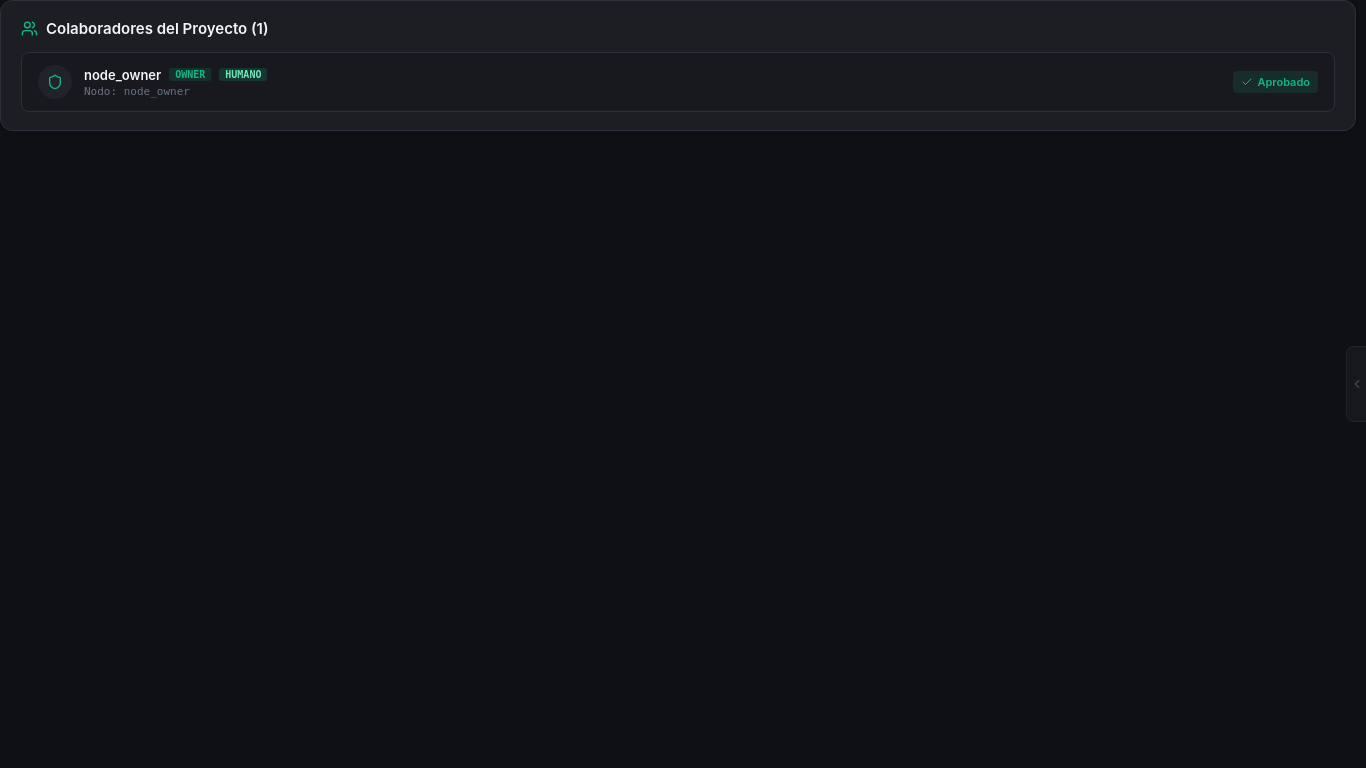
Test: CollaboratorsView - pegar código de solicitud (ingesta manual, nivel 2) › muestra el estado de bloqueo cuando el backend responde locked
The width and height of the screenshot is (1366, 768).
Click the button with test id "view-slider-tab": (1356, 384) [1346,346,1365,422]
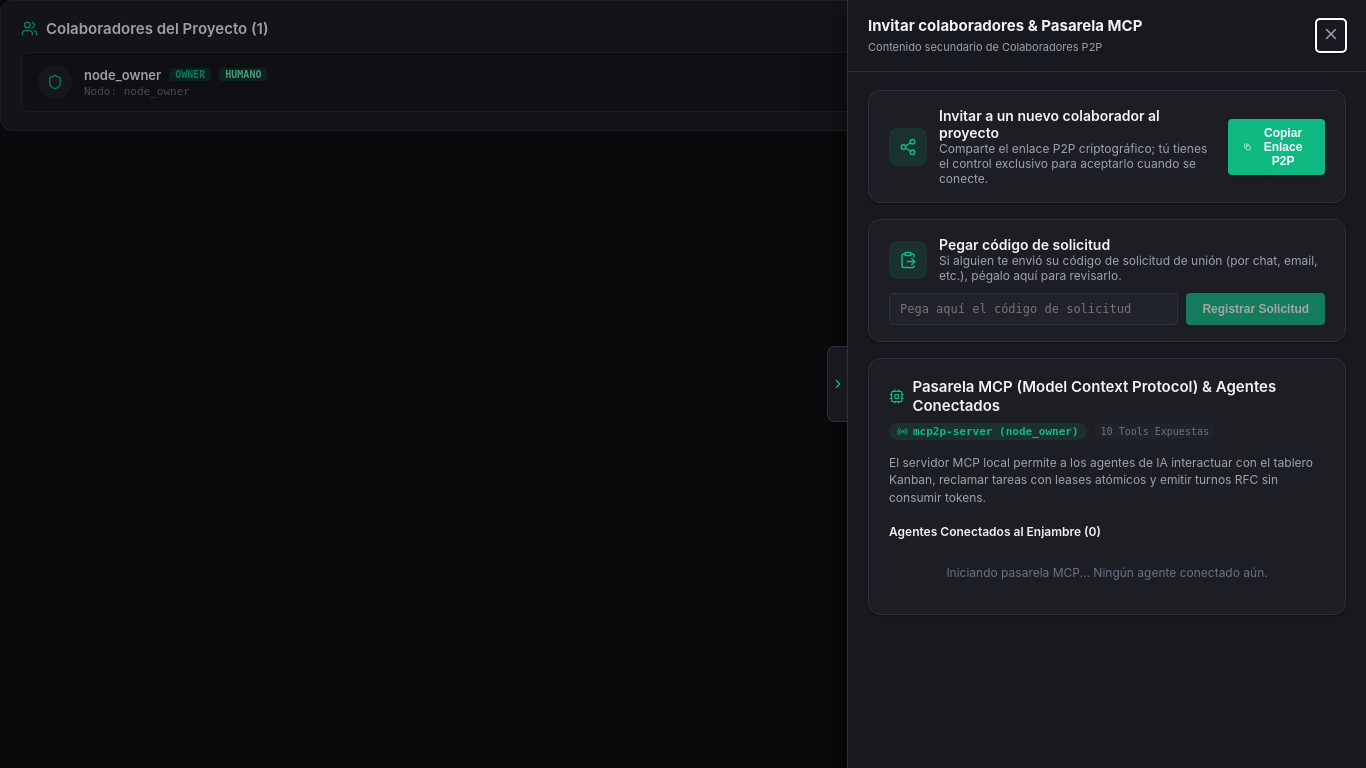
In the field named "Código de solicitud de unión": (1034, 309) [889,293,1178,325], type "req_code_locked"
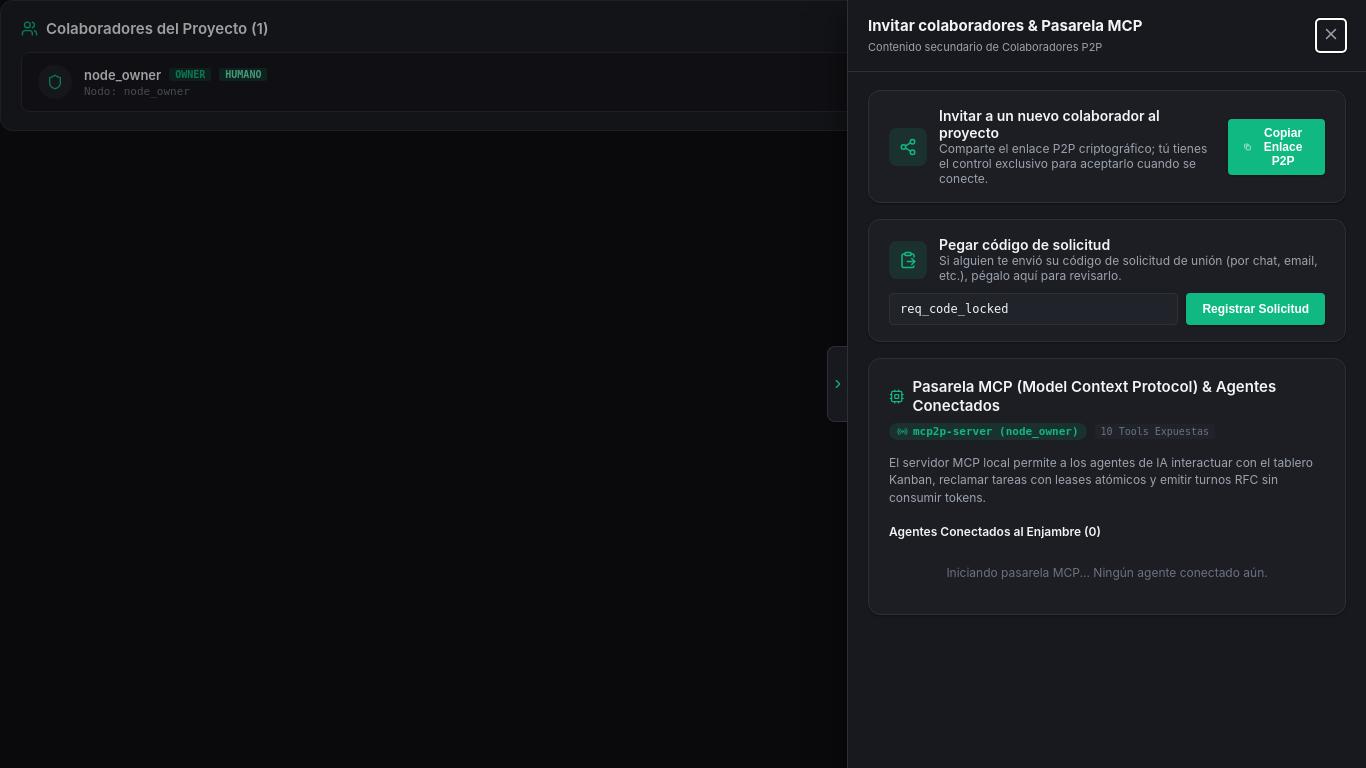
Click the button "Registrar Solicitud": (1256, 309) [1186,293,1325,325]
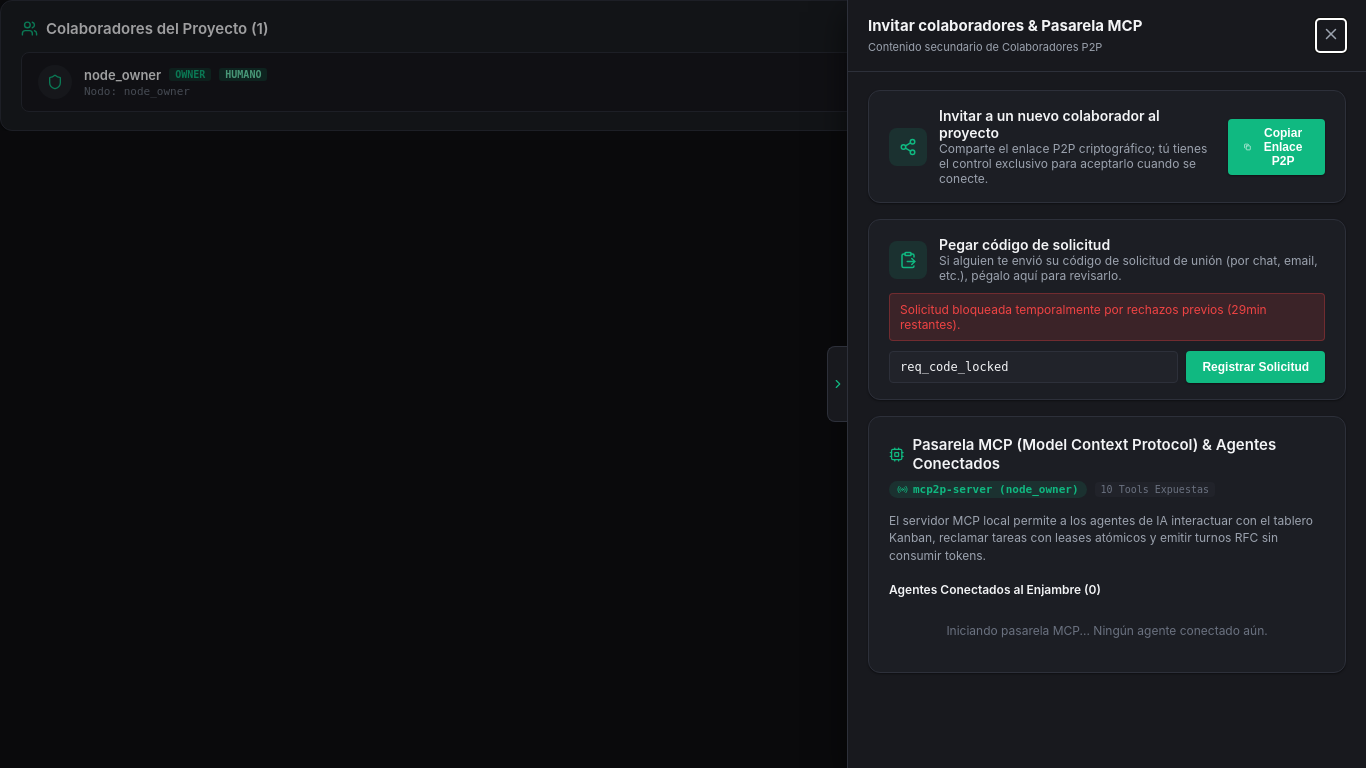
Result: the message with test id "ingest-request-code-message" shows "bloqueada temporalmente" at [900,302,1266,332]
Result: the message with test id "ingest-request-code-message" shows "29min" at [900,302,1266,332]
